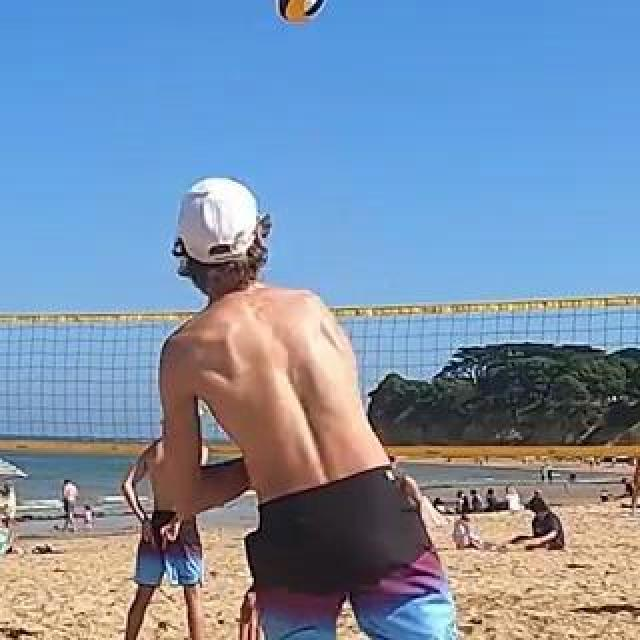volleyball: (276, 0, 324, 22)
